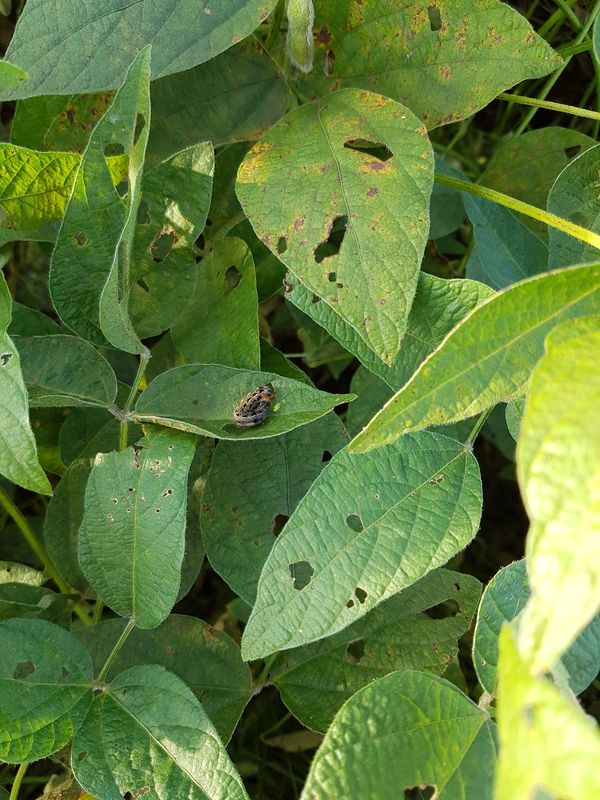Spodoptera_albula: (220, 373, 294, 442)
